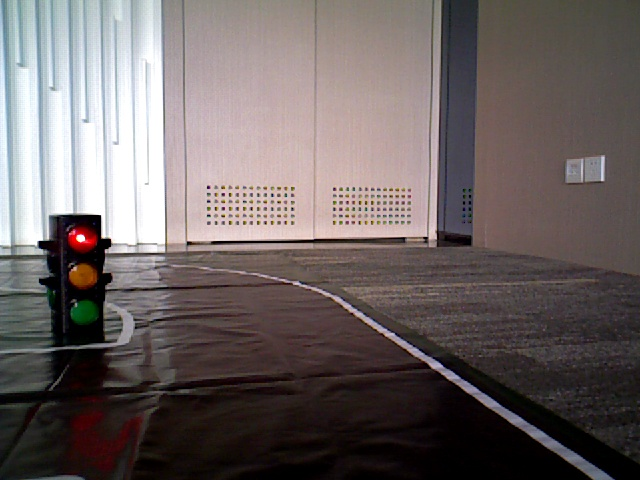red: (53, 219, 102, 332)
